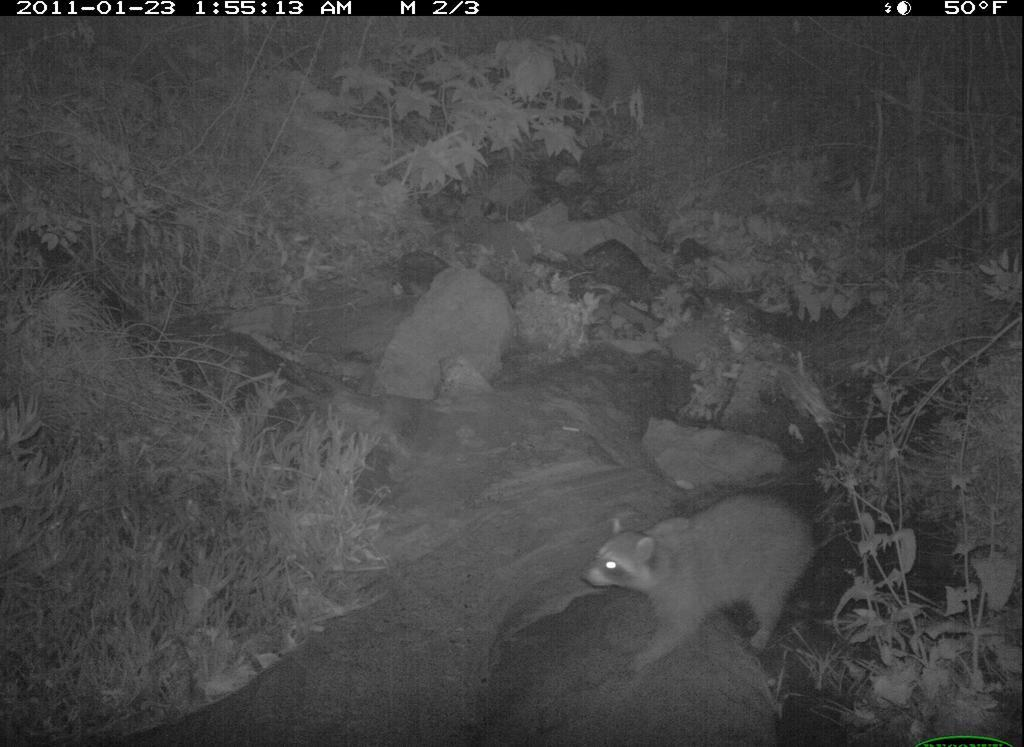raccoon: (569, 472, 849, 694)
